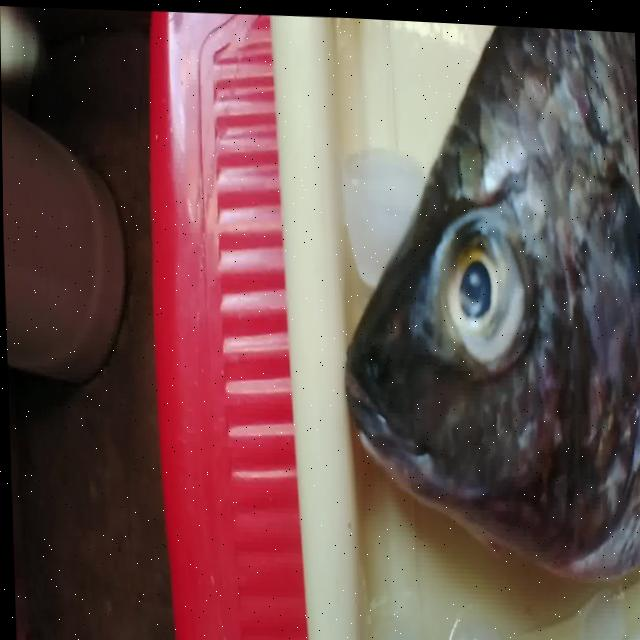Fresh: (435, 205, 520, 367)
